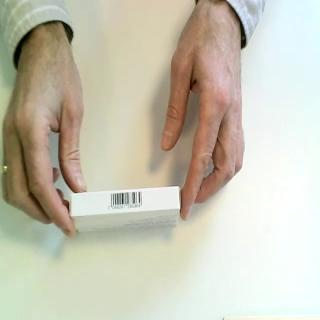oxycontin15mg: (69, 185, 183, 237)
